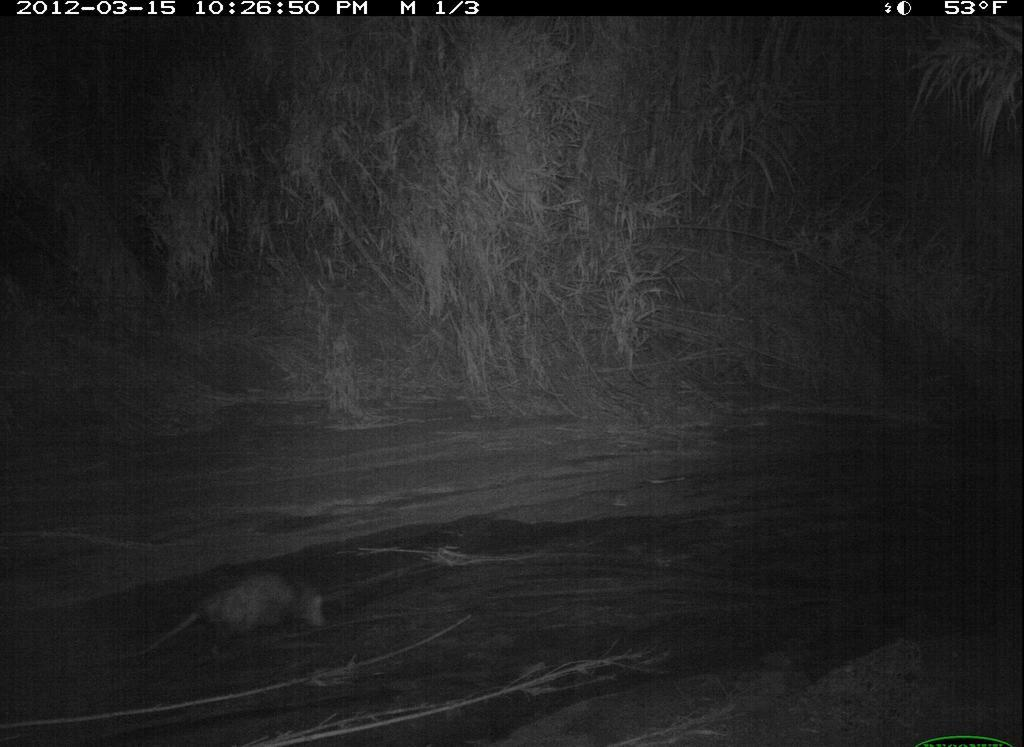opossum: (135, 536, 347, 683)
